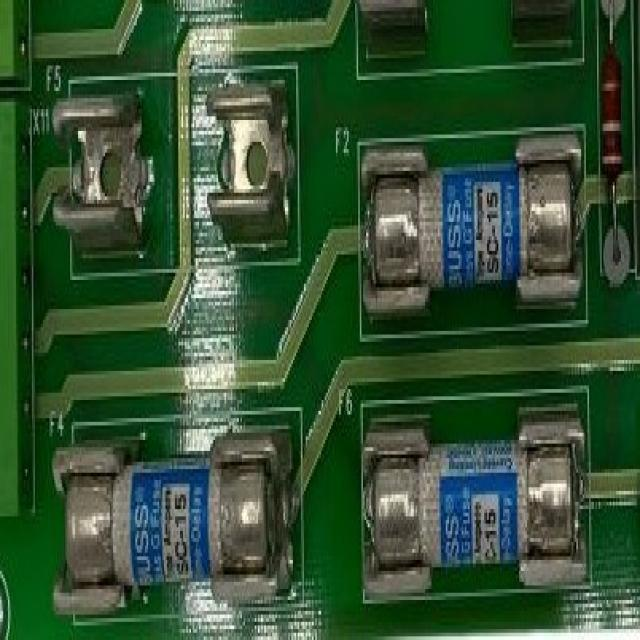fuse F1: (42, 434, 302, 615), (360, 432, 590, 589), (361, 150, 582, 308)
resistor IR1: (599, 34, 630, 215)
